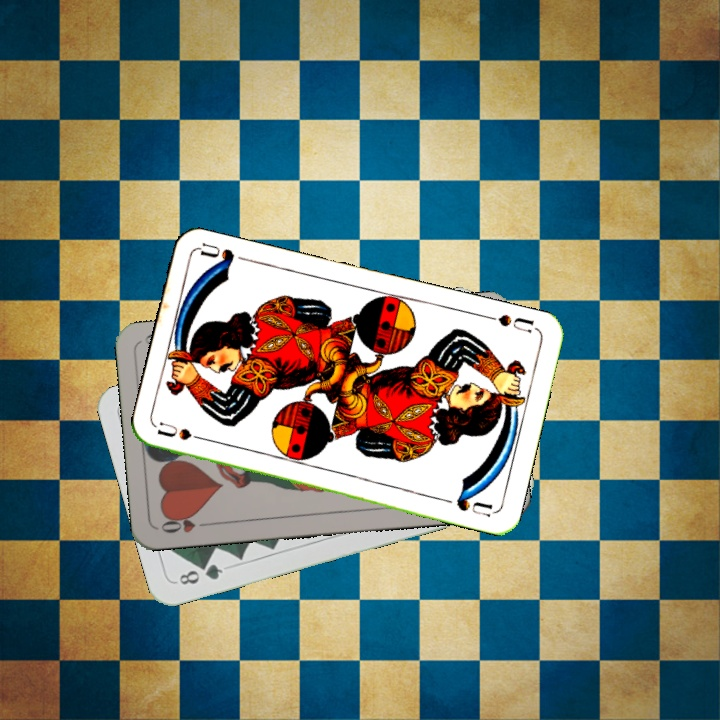G8: (175, 559, 226, 588)
HO: (157, 511, 215, 536)
SU: (154, 418, 214, 445), (480, 310, 536, 336)
